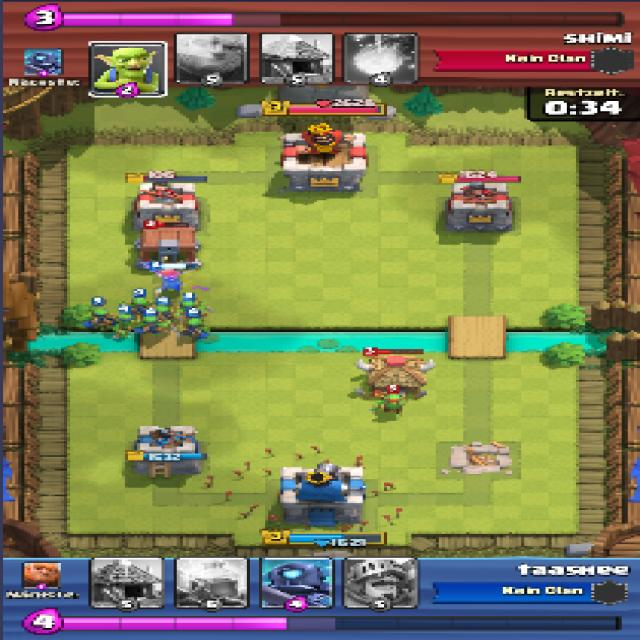Enemy-GoblinHut: (352, 357, 437, 400)
Enemy-SpearGoblin: (364, 393, 410, 419)
Player-GoblinCage: (132, 225, 211, 269)
Player-SpearGoblin: (133, 313, 171, 334), (172, 298, 207, 319), (106, 312, 136, 336), (181, 317, 212, 339), (84, 309, 115, 330), (149, 303, 172, 322), (128, 298, 152, 314)
Player-Valkyrie: (157, 267, 184, 292)
